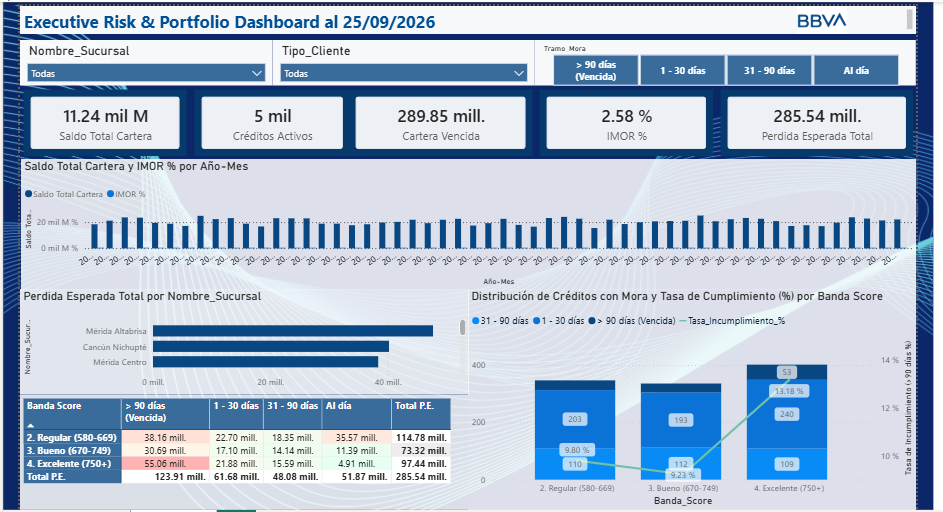

What the dashboard file says about the page in this screenshot:
{"tool":"powerbi","page":{"name":"Página 1","canvas":[1280,720],"ordinal":0},"visuals":[{"type":"cardVisual","fields":{"Data":["Fact_Creditos_Hipotecarios (1).Saldo Total Cartera"]},"box":[0,113.8,243.8,105],"z":0},{"type":"cardVisual","fields":{"Data":["Fact_Creditos_Hipotecarios (1).IMOR %"]},"box":[737.5,113.8,258.8,105],"z":1000},{"type":"cardVisual","fields":{"Data":["Fact_Creditos_Hipotecarios (1).Perdida Esperada Total"]},"box":[995,113.8,285,105],"z":2000},{"type":"pivotTable","fields":{"Rows":["Dim_Clientes (1).Banda_Score"],"Columns":["Fact_Creditos_Hipotecarios (1).Tramo_Mora"],"Values":["Fact_Creditos_Hipotecarios (1).Perdida Esperada Total"]},"box":[0,555.7,640,164.3],"z":3000},{"type":"textbox","box":[0,0,1280,40.3],"z":4000},{"type":"image","box":[1021,0,249.1,40.3],"z":5000},{"type":"slicer","fields":{"Values":["Dim_Sucursales (2).Nombre_Sucursal"]},"box":[0,48.8,361.4,64.8],"z":6000},{"type":"slicer","fields":{"Values":["Dim_Clientes (1).Tipo_Cliente"]},"box":[361.2,48.8,374.4,64.8],"z":7000},{"type":"cardVisual","fields":{"Data":["Fact_Creditos_Hipotecarios (1).Créditos Activos"]},"box":[243.8,113.8,232.5,105],"z":8000},{"type":"cardVisual","fields":{"Data":["Fact_Creditos_Hipotecarios (1).Cartera Vencida"]},"box":[463.8,113.8,273.8,105],"z":9000},{"type":"barChart","fields":{"Category":["Dim_Sucursales (2).Nombre_Sucursal"],"Y":["Fact_Creditos_Hipotecarios (1).Perdida Esperada Total"]},"box":[0,404.3,641.4,151.4],"z":11000},{"type":"lineClusteredColumnComboChart","fields":{"Category":["Dim_Calendario.Año-Mes"],"Y":["Fact_Creditos_Hipotecarios (1).Saldo Total Cartera","Fact_Creditos_Hipotecarios (1).IMOR %"]},"box":[1.4,218.6,1278.6,185.7],"z":12000},{"type":"slicer","fields":{"Values":["Fact_Creditos_Hipotecarios (1).Tramo_Mora"]},"box":[736.2,48.8,544.3,64.8],"z":13000},{"type":"lineStackedColumnComboChart","title":"Distribución de Créditos con Mora y Tasa de Cumplimiento (%) por Banda Score","fields":{"Category":["Dim_Clientes (1).Banda_Score"],"Y":["Fact_Creditos_Hipotecarios (1).Créditos Activos"],"Series":["Fact_Creditos_Hipotecarios (1).Tramo_Mora"],"Y2":["Fact_Creditos_Hipotecarios (1).Tasa_Incumplimiento_%"]},"box":[640,404.3,640,315.7],"z":14000}]}

Visuals, with their boxes in screenshot pixels (x1, y1, x2, y2):
cardVisual - Fact_Creditos_Hipotecarios (1).Saldo Total Cartera: <box>0,83,177,159</box>
cardVisual - Fact_Creditos_Hipotecarios (1).IMOR %: <box>535,83,723,159</box>
cardVisual - Fact_Creditos_Hipotecarios (1).Perdida Esperada Total: <box>722,83,928,159</box>
pivotTable - Dim_Clientes (1).Banda_Score x Fact_Creditos_Hipotecarios (1).Tramo_Mora: <box>0,403,464,511</box>
textbox: <box>0,0,928,29</box>
image: <box>741,0,921,29</box>
slicer - Dim_Sucursales (2).Nombre_Sucursal: <box>0,35,262,82</box>
slicer - Dim_Clientes (1).Tipo_Cliente: <box>262,35,534,82</box>
cardVisual - Fact_Creditos_Hipotecarios (1).Créditos Activos: <box>177,83,345,159</box>
cardVisual - Fact_Creditos_Hipotecarios (1).Cartera Vencida: <box>336,83,535,159</box>
barChart - Dim_Sucursales (2).Nombre_Sucursal x Fact_Creditos_Hipotecarios (1).Perdida Esperada Total: <box>0,293,465,403</box>
lineClusteredColumnComboChart - Dim_Calendario.Año-Mes x Fact_Creditos_Hipotecarios (1).Saldo Total Cartera: <box>1,159,928,293</box>
slicer - Fact_Creditos_Hipotecarios (1).Tramo_Mora: <box>534,35,929,82</box>
"Distribución de Créditos con Mora y Tasa de Cumplimiento (%) por Banda Score" lineStackedColumnComboChart: <box>464,293,928,511</box>
